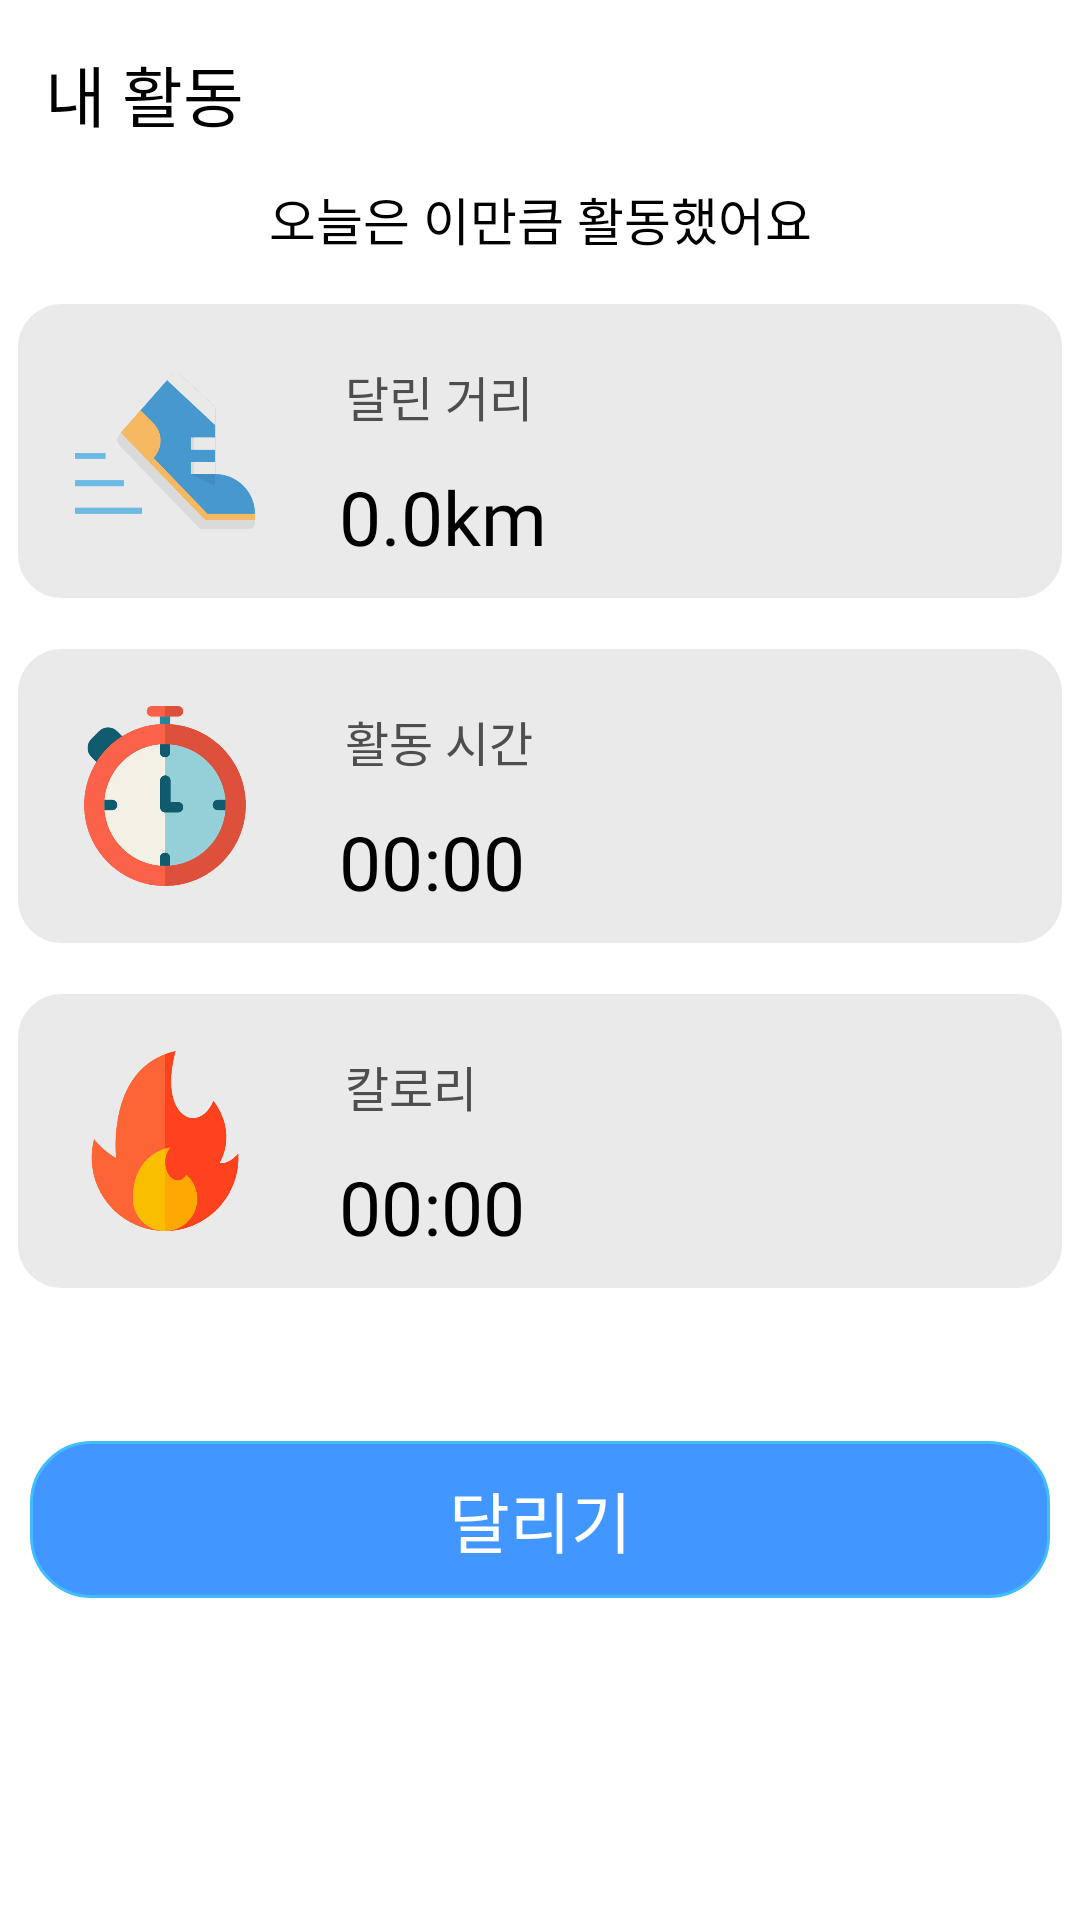

Named icons in this screenshot (1080×1920) and their bounding boxes, [x1=x1, y1=y1, x2=x2, y2=y2]:
fire: [x1=91, y1=1051, x2=239, y2=1231]
running shoe: [x1=75, y1=373, x2=255, y2=520]
timer: [x1=84, y1=706, x2=246, y2=886]
